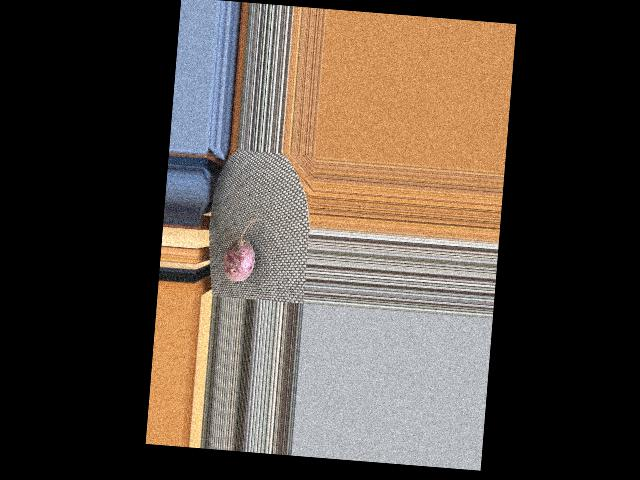beet: (221, 215, 262, 282)
